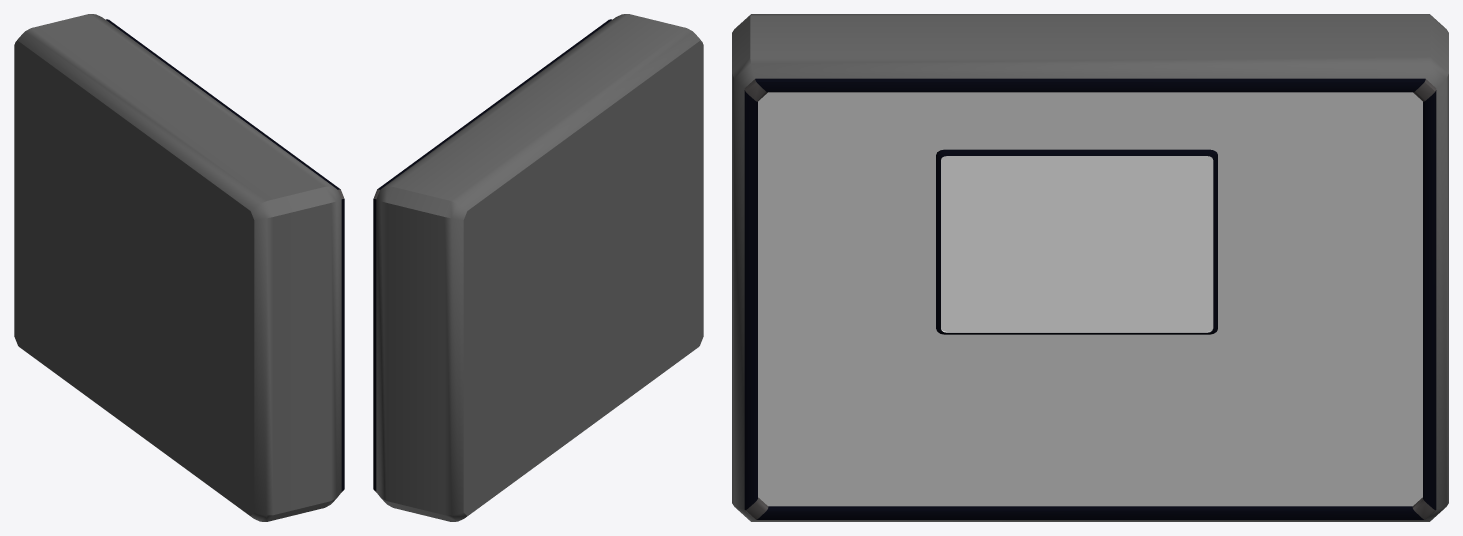
File: startTerminal.fbx
The picture shows the model from 3 angles, left to right: view 1: azimuth 30°, elevation 25°; view 2: azimuth 150°, elevation 25°; view 3: azimuth 270°, elevation 25°; orthographic projection. The views are drawn at different scales.
Parts seen in each view (by area): view 1: Terminal.001; view 2: Terminal.001; view 3: Terminal.001.
Part boxes in pixels (x1,y1,x2,y2): Terminal.001: (14,14,344,521); Terminal.001: (373,14,703,521); Terminal.001: (732,14,1448,521).
Bounding box in the file's own units: 0.2633 × 0.8802 × 1.24.
